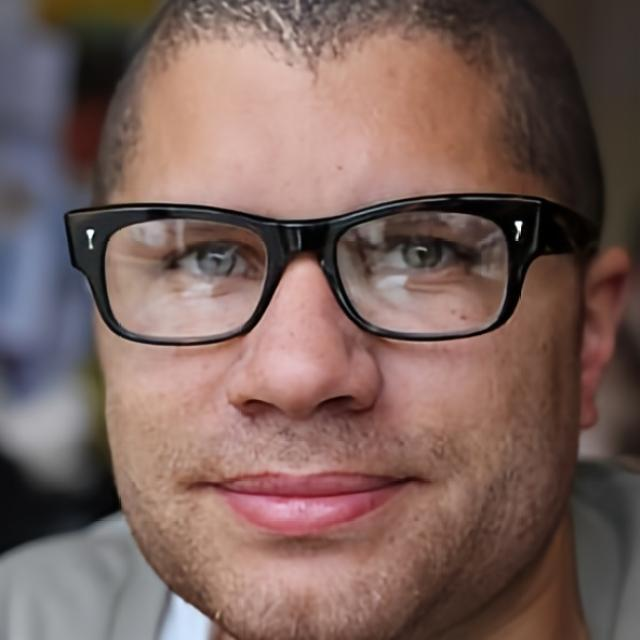content: (96, 0, 584, 640)
